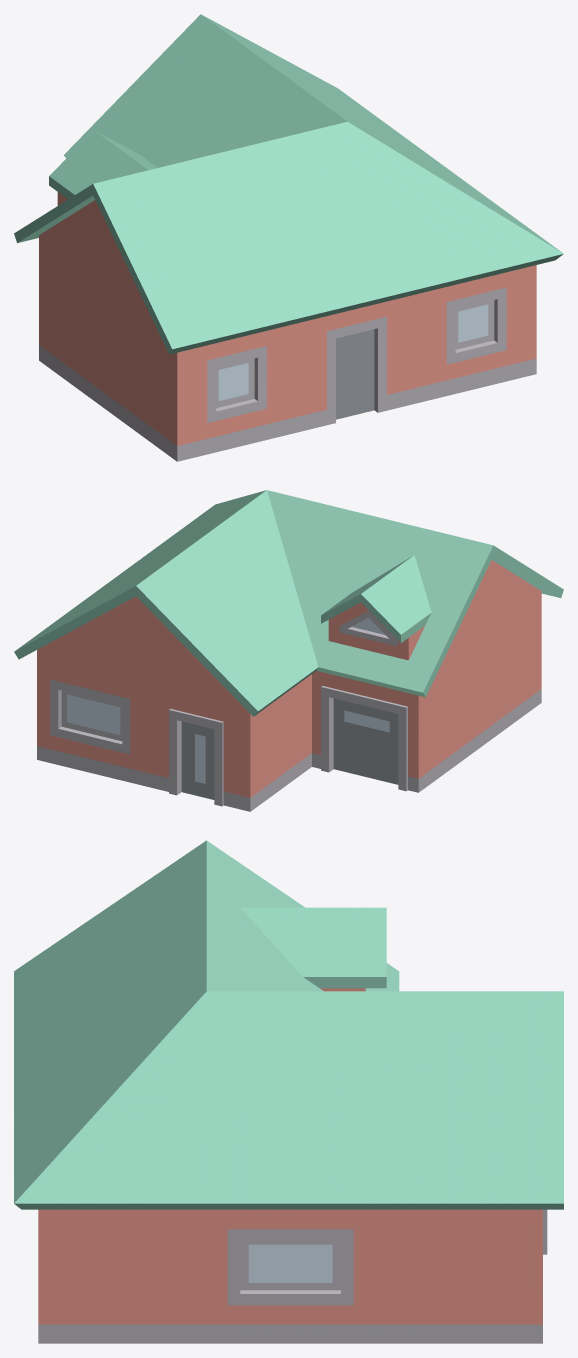
The model's file is house-suburban-c.glb.
3 renders of one model, top to bottom at view 1: azimuth 30°, elevation 25°; view 2: azimuth 150°, elevation 25°; view 3: azimuth 270°, elevation 25°, orthographic. The views are drawn at different scales.
Visible parts, largest first — view 1: house_type05; view 2: house_type05; view 3: house_type05.
Part boxes in pixels (x1,y1,x2,y2): house_type05: (14,14,563,461); house_type05: (14,490,563,811); house_type05: (14,840,563,1343).
Bounding box in the file's own units: 1.31 × 0.7375 × 1.31.
Materials: 1 (1 with a texture image).
